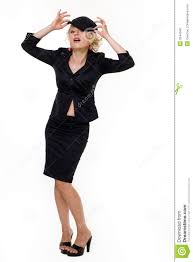F_W_suit jacket: (21, 47, 142, 119)
F_tailored skirt: (36, 117, 101, 190)
